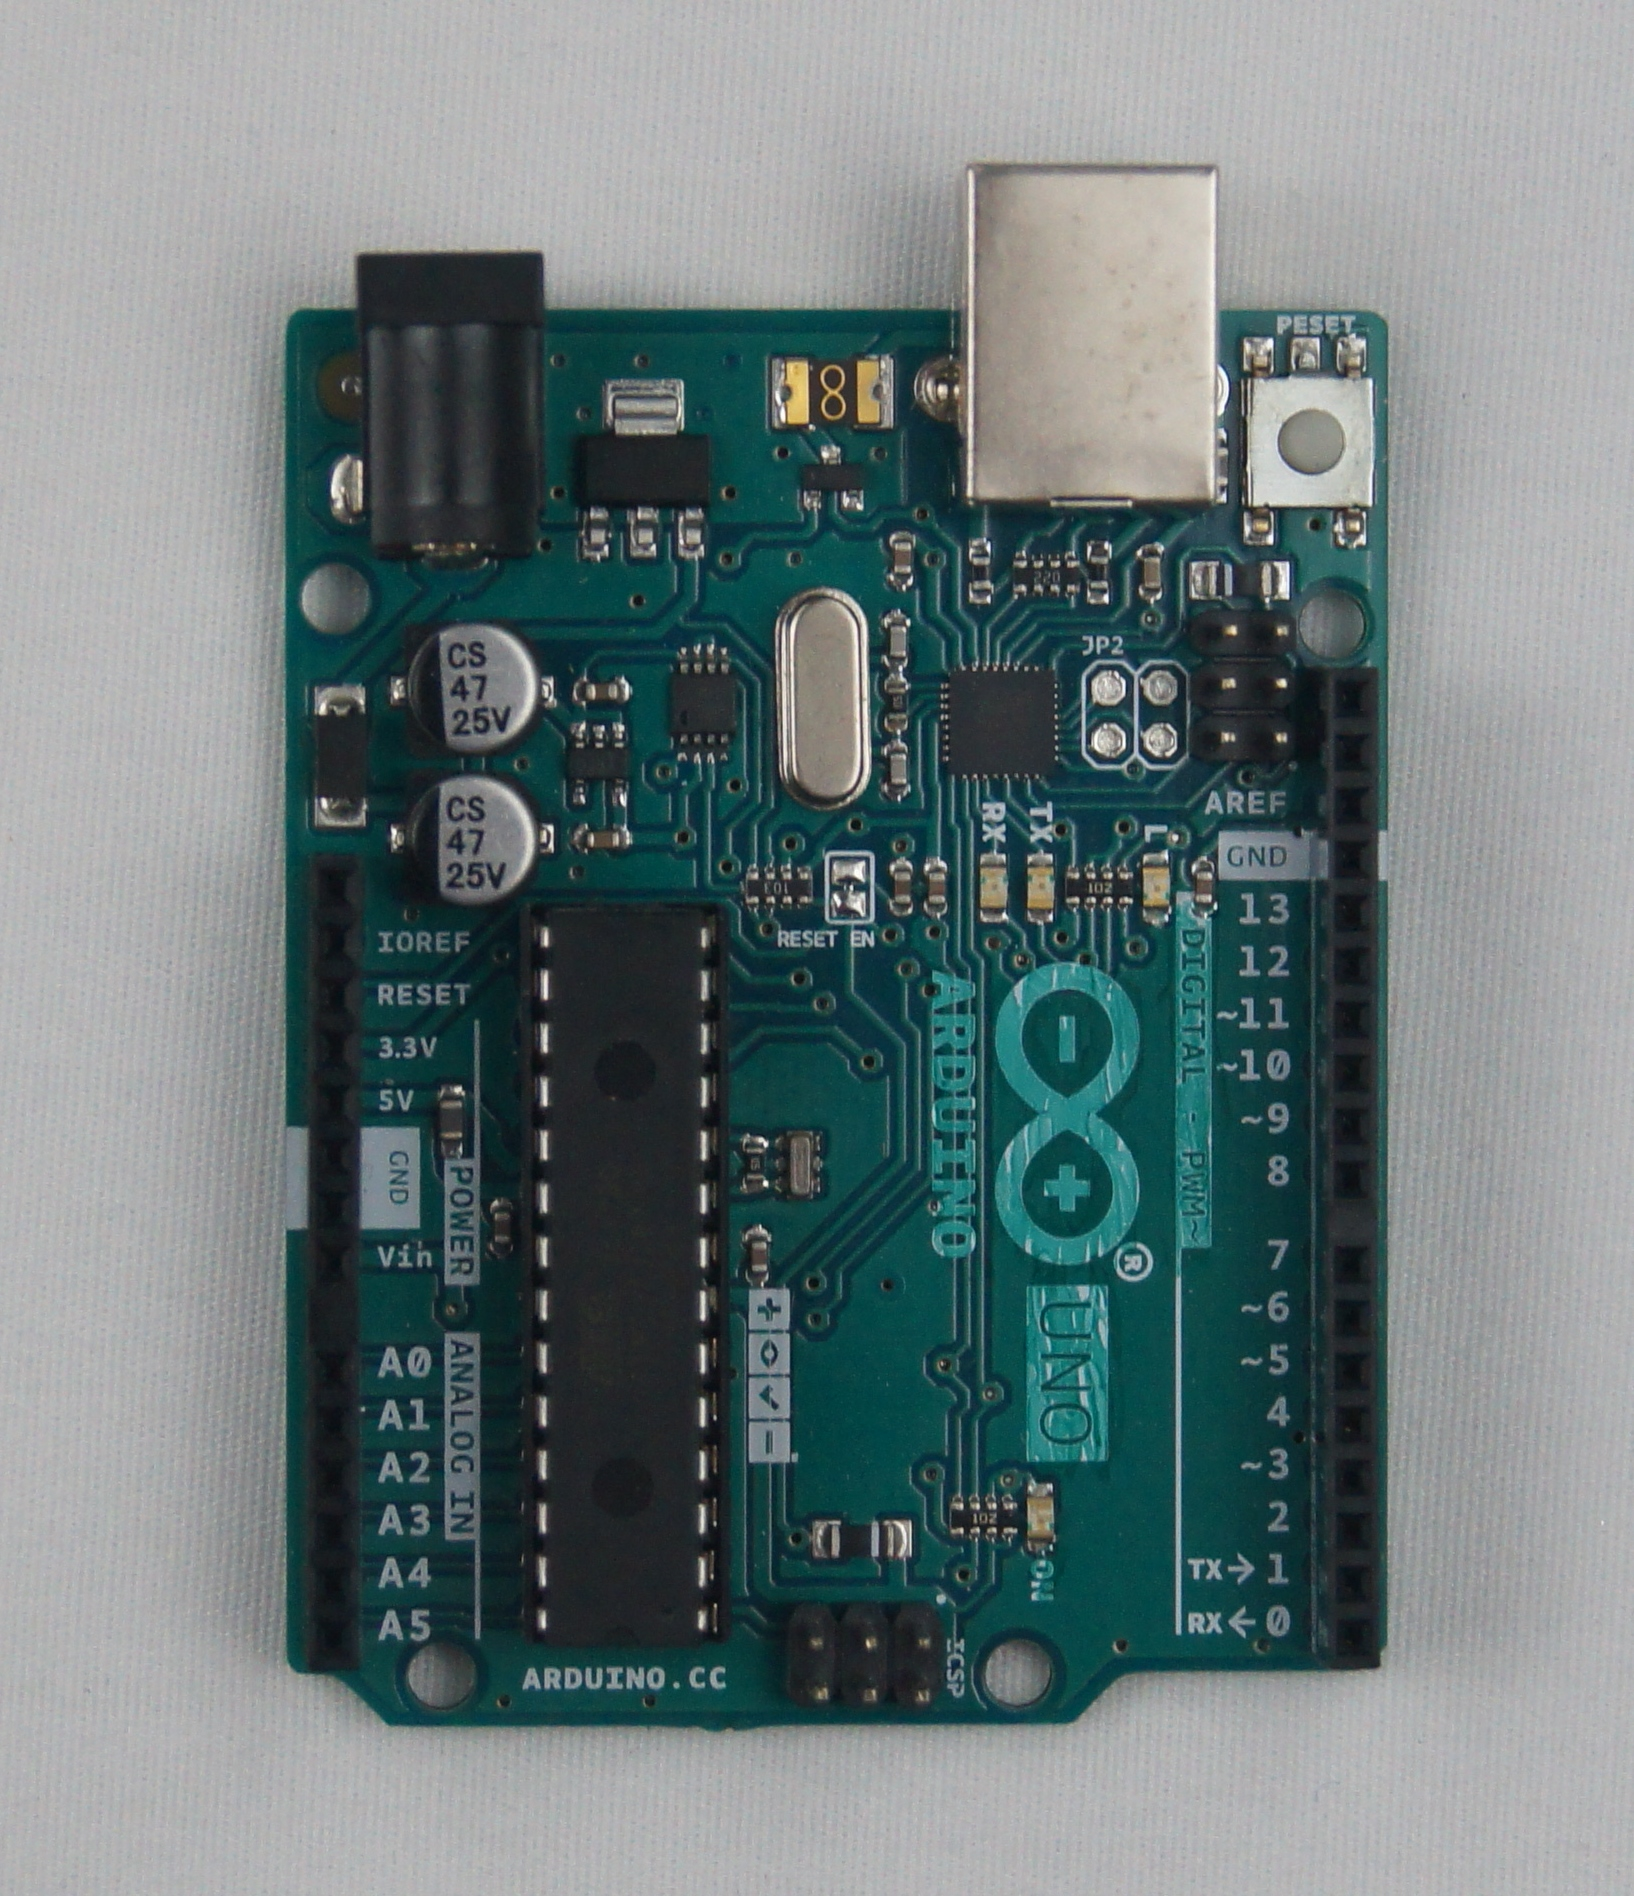connector: (1316, 659, 1387, 1662), (348, 239, 548, 576), (303, 851, 365, 1672), (782, 1598, 942, 1712), (1194, 605, 1297, 771), (1132, 659, 1184, 767), (1084, 663, 1134, 771)
